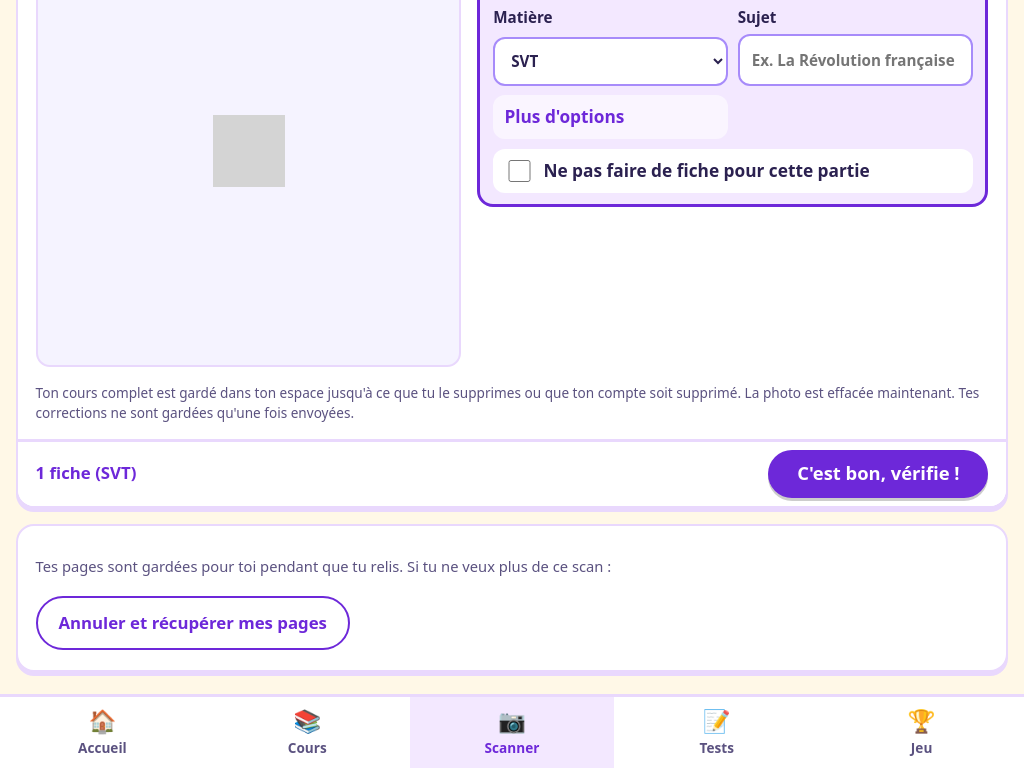
Scenario: découper en sections › FIX-T4: après l'annulation, le compteur de pages est relu
(page scrolled)
Click the button "Annuler et récupérer mes pages": point(193, 623) [36,596,350,650]
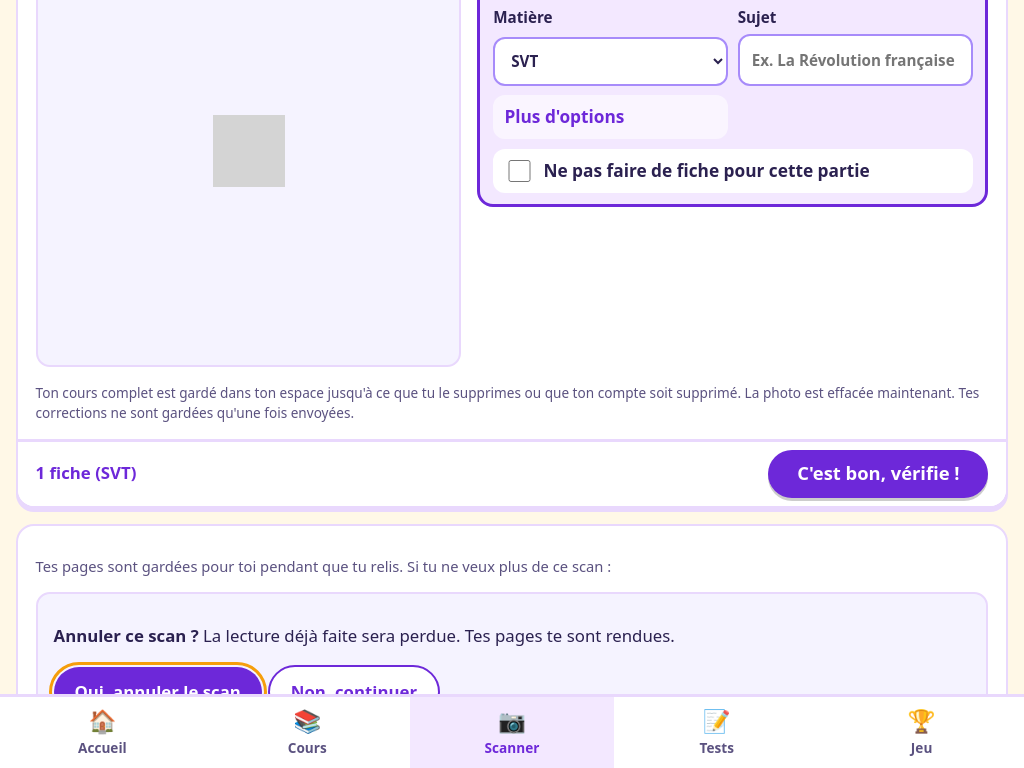
Click the button "Oui, annuler le scan": point(158, 692) [54,667,262,717]
(page scrolled)
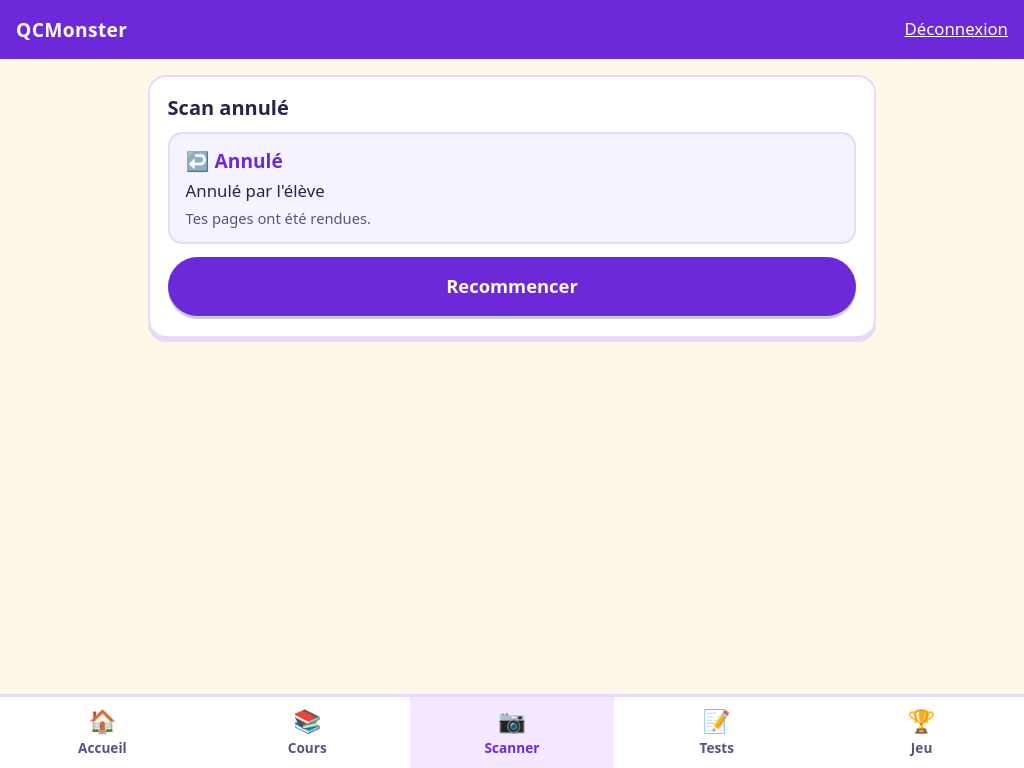
Now the text "Annulé" is shown, box [214,147,283,174]
